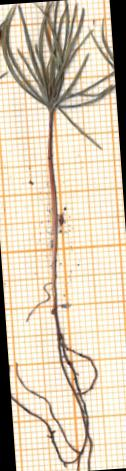flower: (0, 0, 117, 118)
root: (5, 303, 109, 471)
stem: (36, 118, 71, 304)
